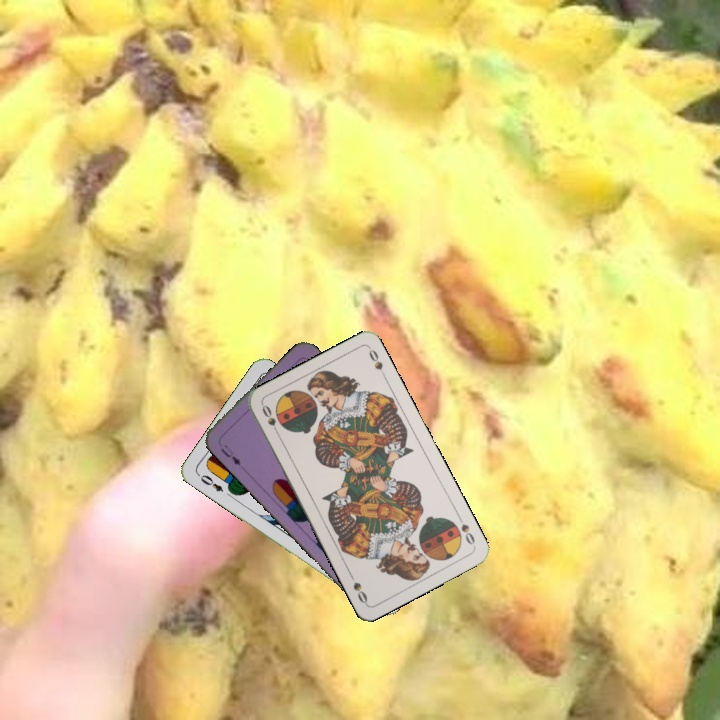EO: (196, 470, 226, 495)
EU: (216, 440, 243, 468)
SO: (453, 511, 478, 549), (258, 401, 282, 439)
